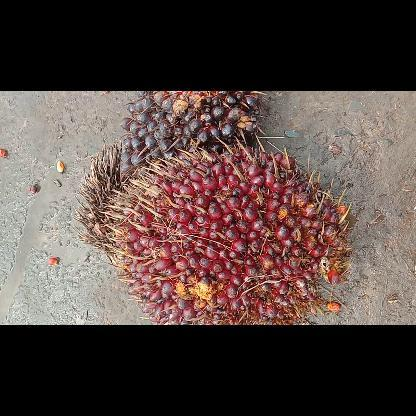Janjang kosong: (72, 140, 136, 252)
TBS masak: (100, 136, 350, 324)
TBS mentah: (119, 90, 265, 174)
